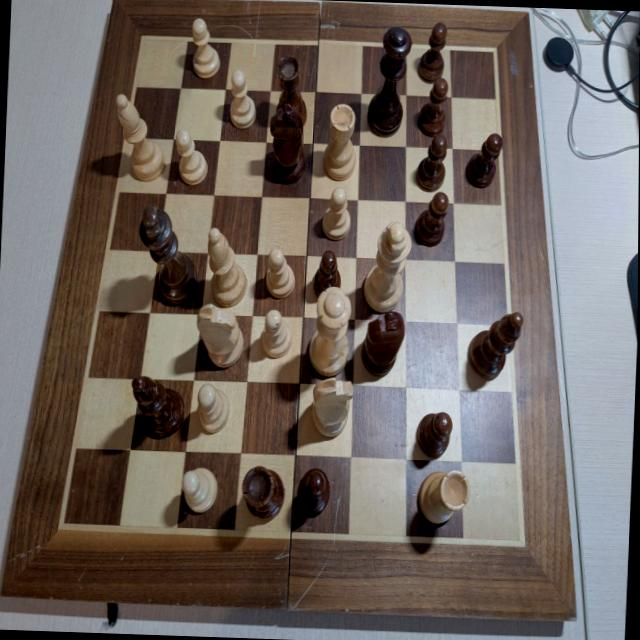black_bishop: (467, 308, 523, 379), (129, 375, 188, 439)
black_king: (137, 200, 202, 306)
black_knight: (267, 102, 308, 186), (360, 309, 406, 373)
black_pawn: (464, 132, 503, 190), (413, 187, 449, 246), (417, 76, 450, 136), (418, 20, 449, 83), (415, 408, 454, 458), (415, 134, 448, 192), (297, 467, 332, 518), (311, 250, 341, 296)
black_queen: (368, 26, 412, 137)
black_rook: (241, 464, 286, 520), (275, 54, 309, 128)
white_bishop: (112, 93, 167, 180), (206, 225, 251, 308)
white_king: (364, 219, 413, 313)
white_knight: (196, 303, 247, 368), (309, 377, 354, 437)
white_pawn: (173, 127, 210, 186), (190, 16, 222, 80), (194, 382, 232, 434), (181, 466, 220, 514), (227, 68, 258, 128), (265, 246, 297, 300), (261, 308, 294, 359), (322, 188, 352, 242)
white_queen: (308, 287, 354, 376)
white_rook: (418, 468, 471, 524), (323, 103, 359, 181)
